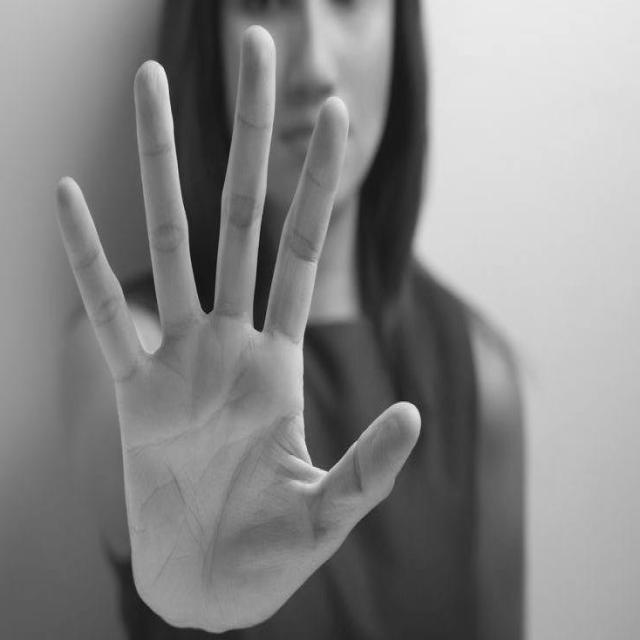stop: (51, 15, 424, 640)
